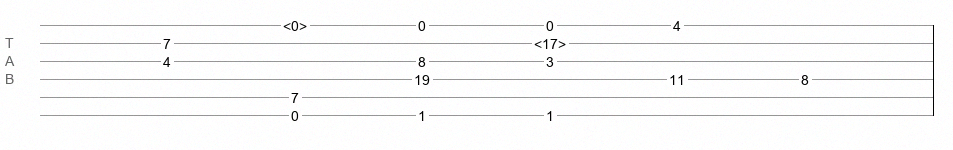0: (291, 108, 299, 118), (418, 18, 426, 28), (546, 18, 554, 28)
1: (418, 108, 426, 118), (546, 108, 554, 118)
11: (669, 72, 685, 82)
19: (414, 72, 430, 82)
3: (546, 54, 554, 64)
4: (163, 54, 171, 64), (673, 18, 681, 28)
7: (163, 36, 171, 46), (291, 90, 299, 100)
8: (418, 54, 426, 64), (801, 72, 809, 82)
harmonic: (534, 36, 566, 46), (283, 18, 307, 28)
